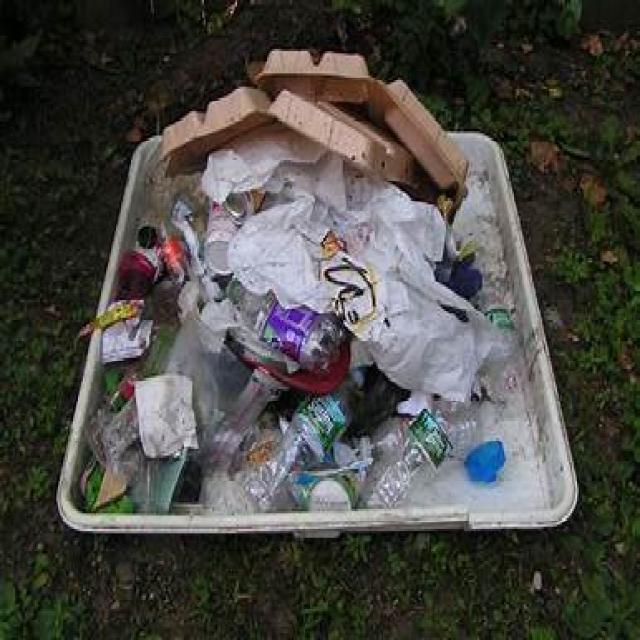Garbage: (80, 50, 519, 514)
Glass_bottle: (485, 305, 519, 394)
Plastic_Container: (168, 321, 281, 470)
Plastic_bottle: (241, 370, 365, 510), (361, 397, 479, 508), (228, 278, 349, 374), (116, 226, 162, 300), (158, 221, 190, 283)
can: (204, 203, 238, 276), (308, 472, 359, 511), (224, 189, 265, 224)
